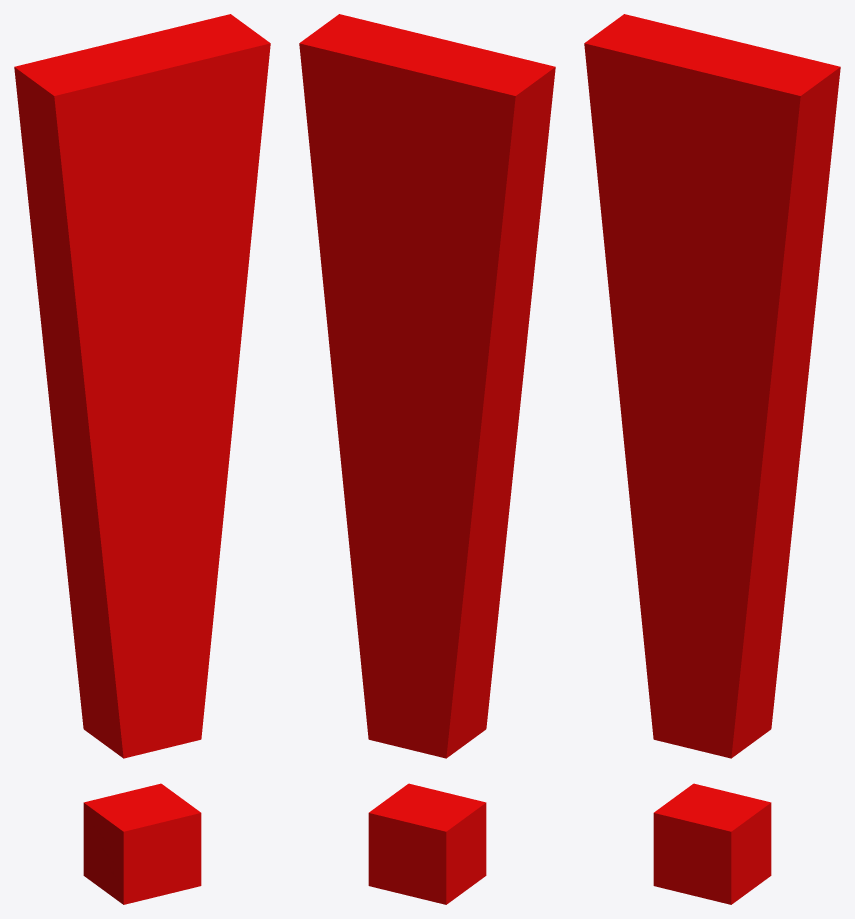
Rendered from exclamation_point_final.fbx.
3 views of the same model, side by side, from view 1: azimuth 30°, elevation 25°; view 2: azimuth 150°, elevation 25°; view 3: azimuth 330°, elevation 25° (orthographic).
Visible parts, largest first — view 1: Group1; view 2: Group1; view 3: Group1.
Boxes of the visible parts, x1,y1,x2,y2 form: Group1: (14,14,270,904); Group1: (299,14,555,904); Group1: (584,14,840,904).
Bounding box in the file's own units: 2.18 × 7.96 × 0.7.
